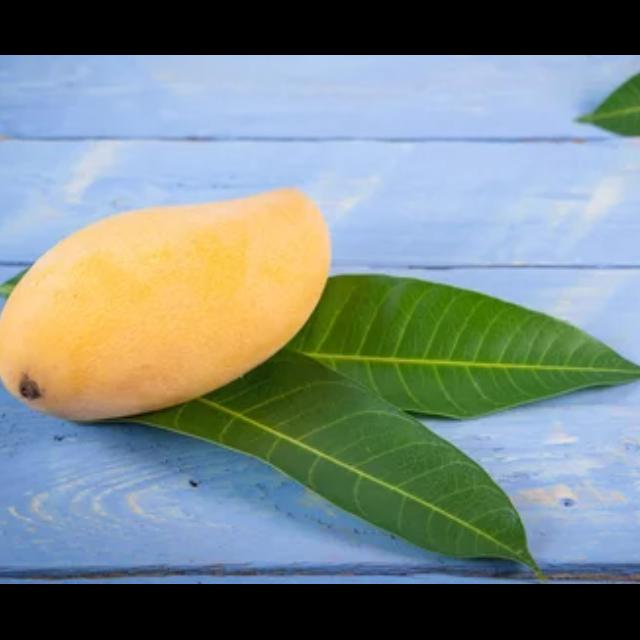mango: (0, 186, 332, 419)
